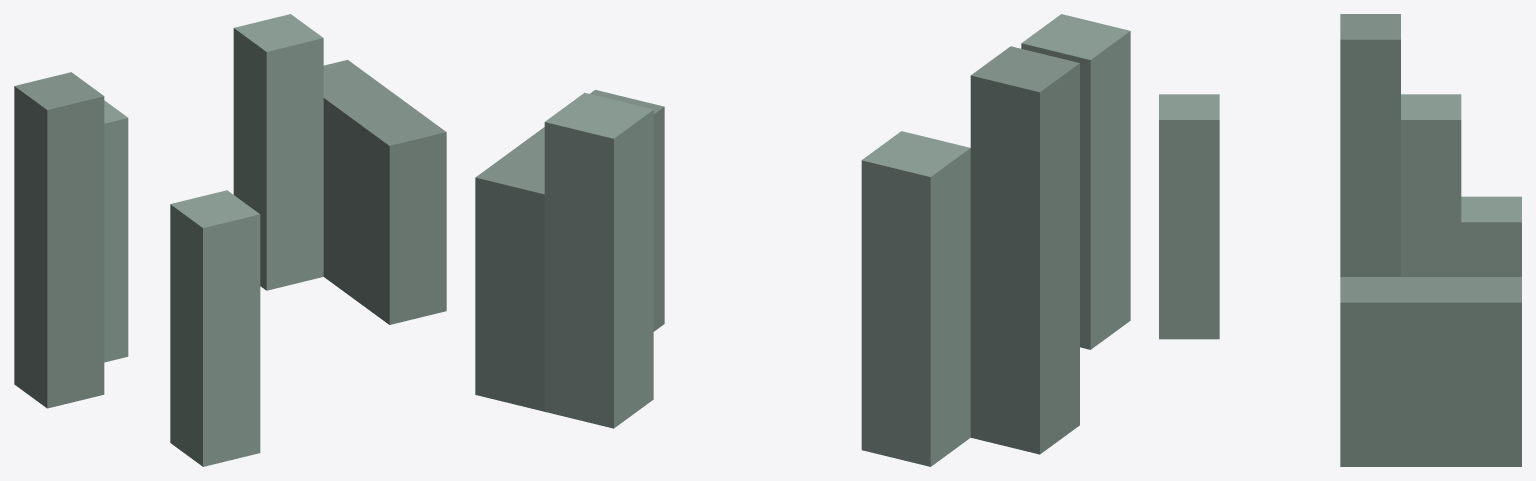
Rendered from romero_04.glb.
3 views of the same model, side by side, from view 1: azimuth 30°, elevation 25°; view 2: azimuth 150°, elevation 25°; view 3: azimuth 270°, elevation 25° (orthographic). The views are drawn at different scales.
Parts seen in each view (by area): view 1: romero_04; view 2: romero_04; view 3: romero_04.
Part boxes in pixels (x1,y1,x2,y2): romero_04: (14,14,446,466); romero_04: (475,14,1130,466); romero_04: (1159,14,1521,466).
Bounding box in the file's own units: 0.7 × 0.5 × 0.6.
